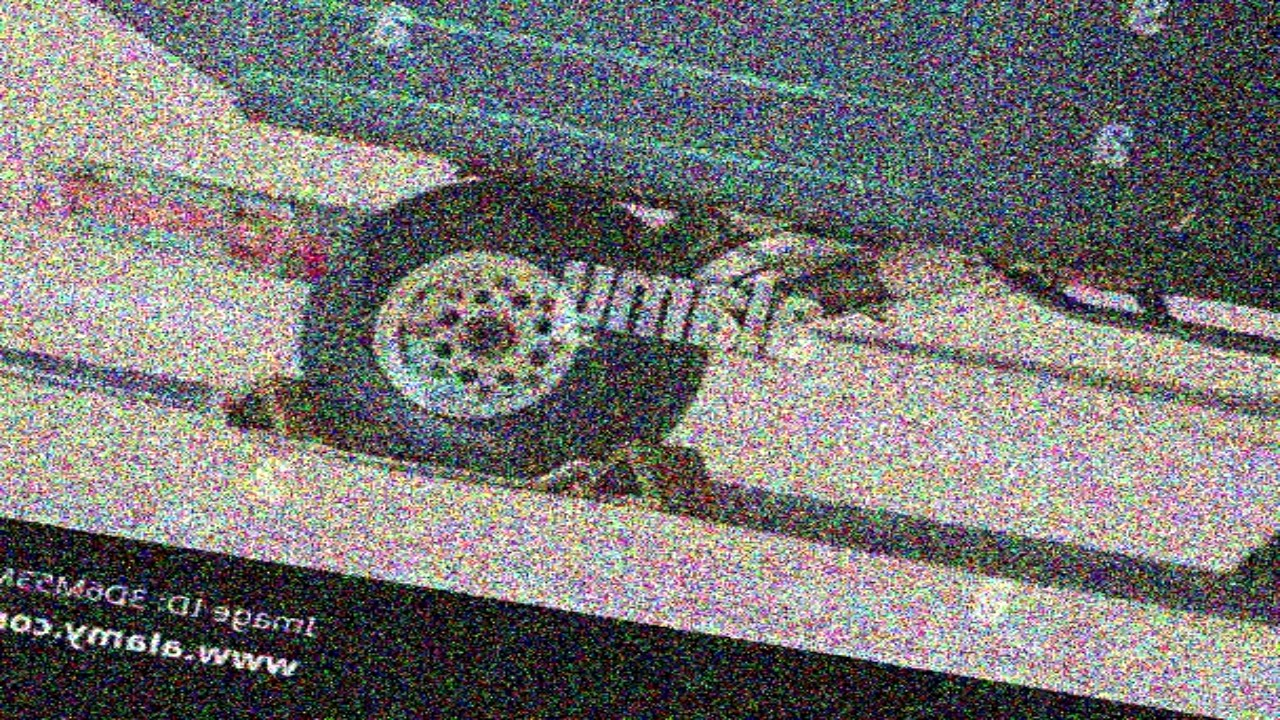chock: (196, 363, 364, 459), (569, 429, 735, 520), (1229, 512, 1280, 600)
wheel: (274, 150, 745, 500)
